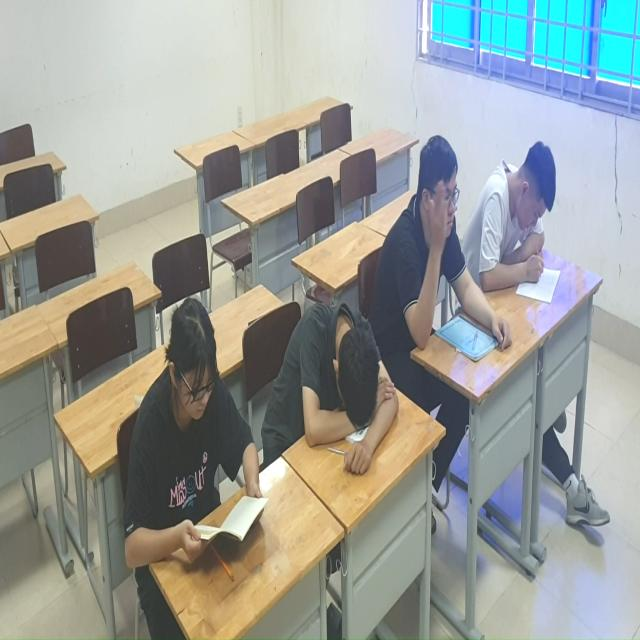raise_hand: (385, 130, 467, 377)
read: (120, 289, 274, 619), (473, 135, 567, 326)
sleep: (272, 296, 405, 495)
